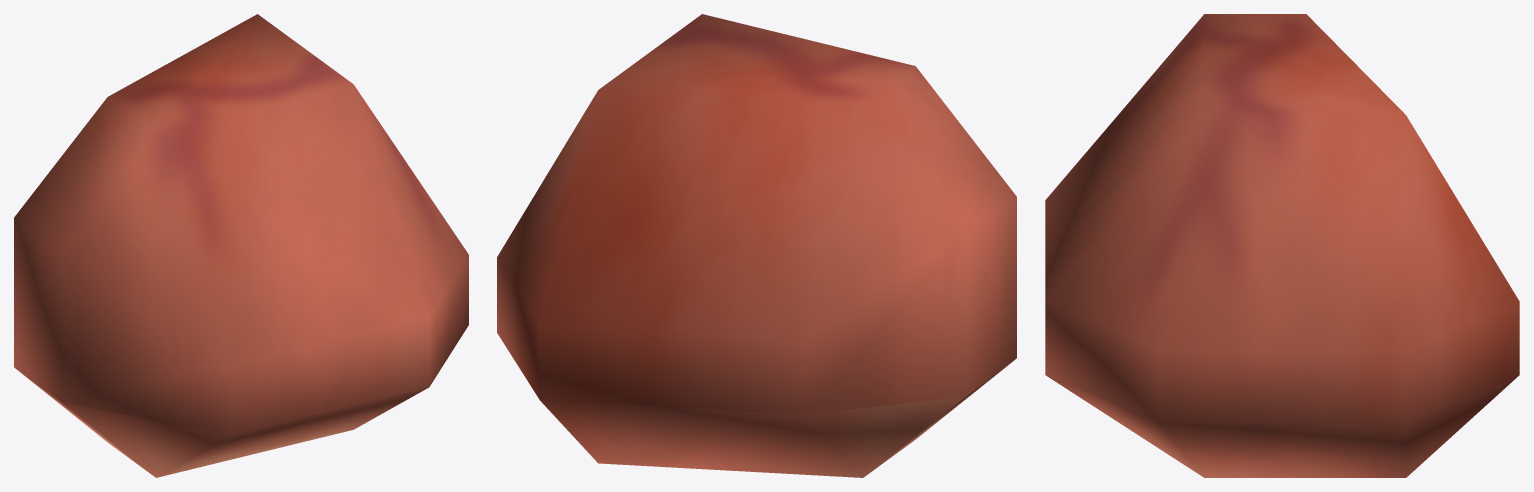
Rendered from chunk3.FBX.
The picture shows the model from 3 angles, left to right: view 1: azimuth 30°, elevation 25°; view 2: azimuth 150°, elevation 25°; view 3: azimuth 270°, elevation 25°; orthographic projection. The views are drawn at different scales.
Parts seen in each view (by area): view 1: Object003; view 2: Object003; view 3: Object003.
Boxes of the visible parts, x1,y1,x2,y2 form: Object003: (14, 14, 468, 477); Object003: (497, 14, 1016, 477); Object003: (1045, 14, 1519, 477).
Bounding box in the file's own units: 4.12 × 3.53 × 4.19.
1 material, 1 textured.
